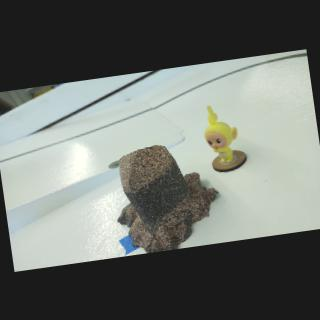teletubby: (205, 106, 237, 162)
